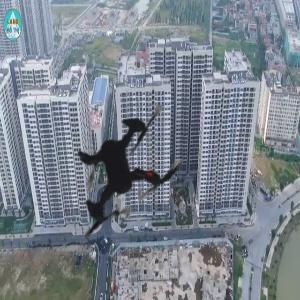drone: (17, 67, 231, 281)
